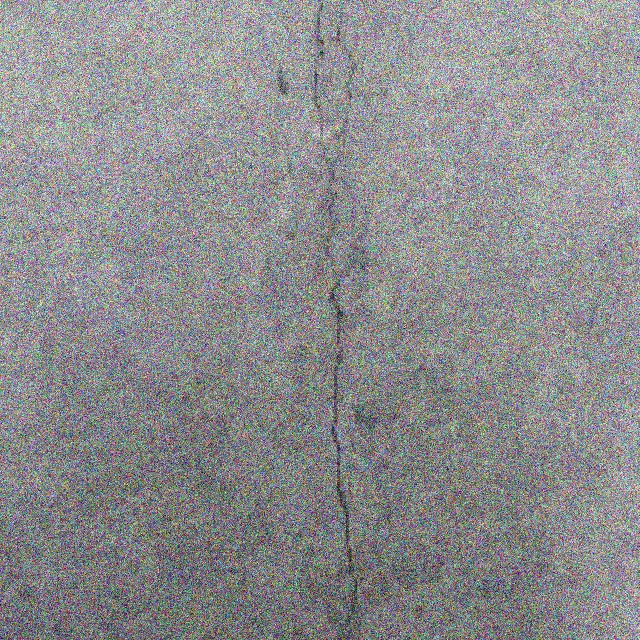SurfaceCrack: (288, 0, 390, 634)
